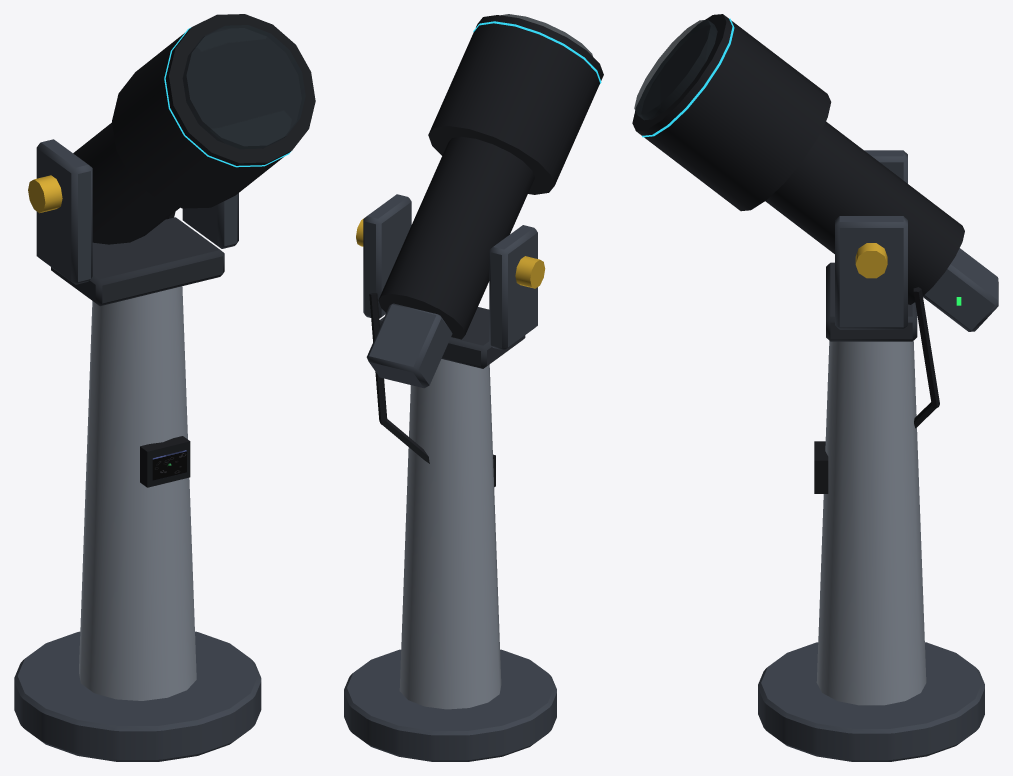
The model's file is telescope_star_tracker_scope.glb.
3 renders of one model, left to right at view 1: azimuth 30°, elevation 25°; view 2: azimuth 150°, elevation 25°; view 3: azimuth 270°, elevation 25°, orthographic. The views are drawn at different scales.
Visible parts, largest first — view 1: telescope_star_tracker_scope; view 2: telescope_star_tracker_scope; view 3: telescope_star_tracker_scope.
Boxes of the visible parts, x1=… form: telescope_star_tracker_scope: x1=14, y1=14, x2=315, y2=761; telescope_star_tracker_scope: x1=344, y1=14, x2=603, y2=761; telescope_star_tracker_scope: x1=632, y1=14, x2=998, y2=761.
Bounding box in the file's own units: 0.4924 × 1.68 × 0.8019.
9 materials, 1 textured.
